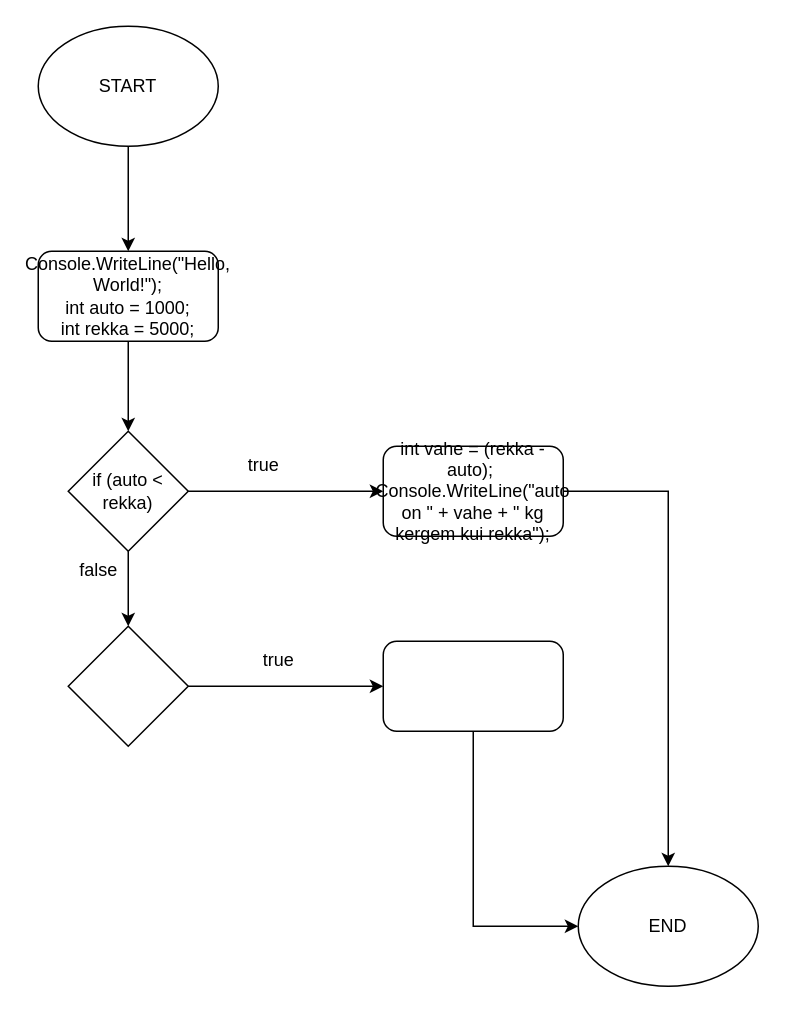
The diagram is 785 pixels wide and 1013 high, and some of its shapes have lost their labels. Here are the shapes that lost their labels. From the top down, the centre of each, then its label:
point (127, 685): else
point (472, 685): Console.WriteLine("rekka on raskem kui auto");
